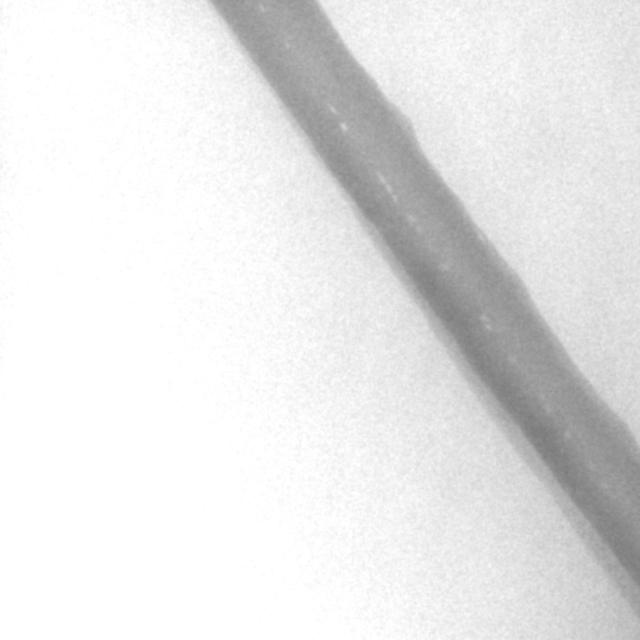air hole: (324, 100, 336, 114), (339, 120, 348, 134)
